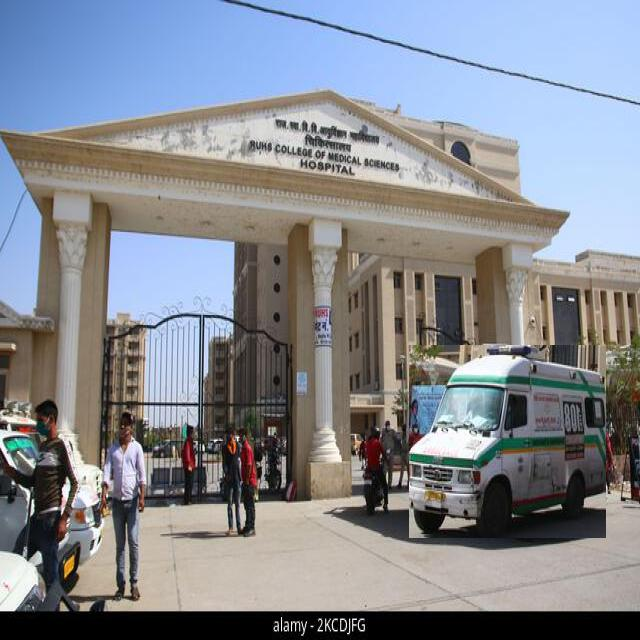emergency: (409, 346, 606, 538)
